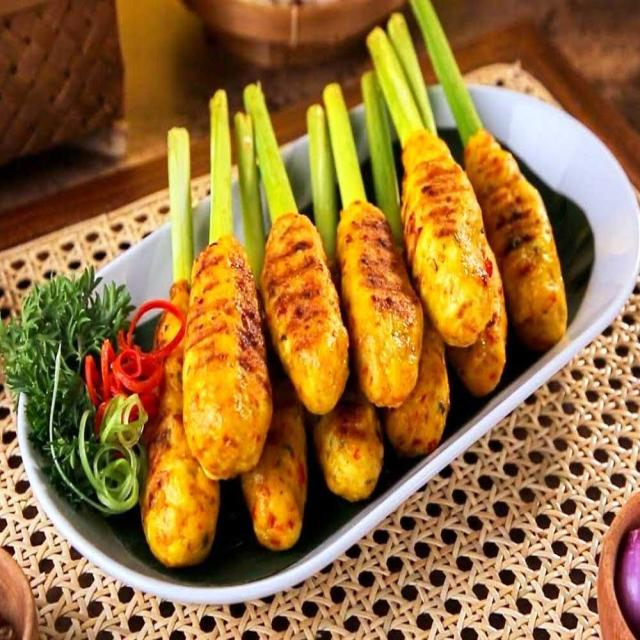Sate: (127, 121, 563, 521)
